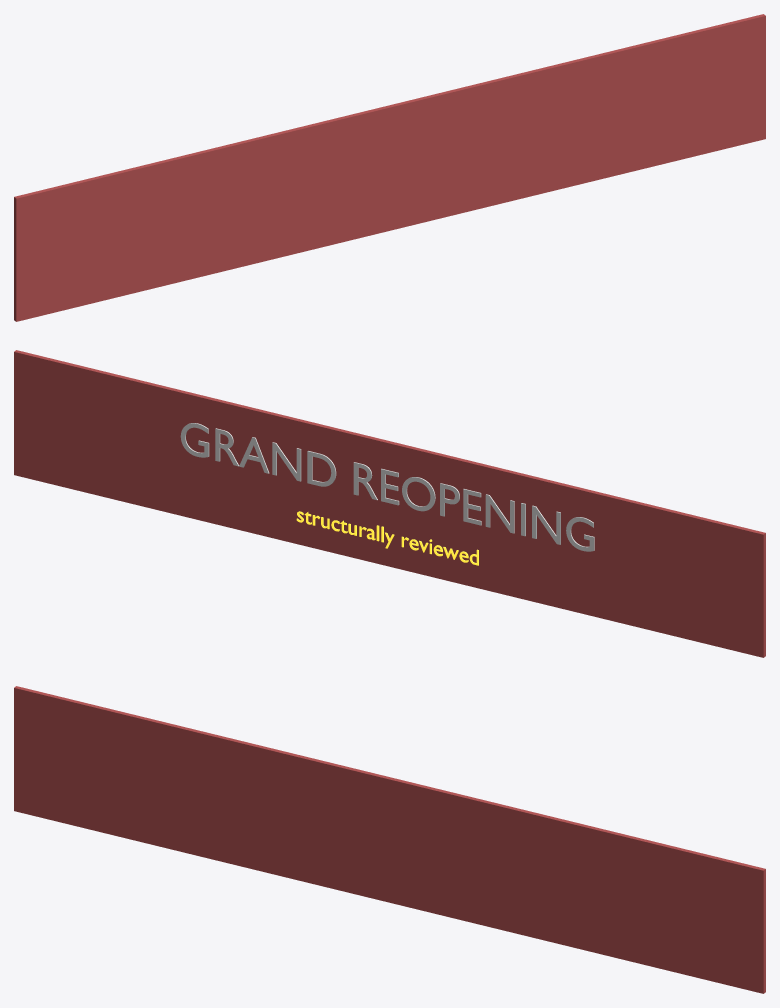
Rendered from ceremony_banner.glb.
3 views of the same model, one above another, from view 1: azimuth 30°, elevation 25°; view 2: azimuth 150°, elevation 25°; view 3: azimuth 330°, elevation 25° (orthographic).
Visible parts, largest first — view 1: ceremony_banner; view 2: ceremony_banner; view 3: ceremony_banner.
Boxes of the visible parts, box(x1,y1,x2,y2) form: ceremony_banner: box(14, 14, 765, 321); ceremony_banner: box(14, 350, 765, 657); ceremony_banner: box(14, 686, 765, 993).
Size of the model in its own units: 7 by 1.1 by 0.055.
